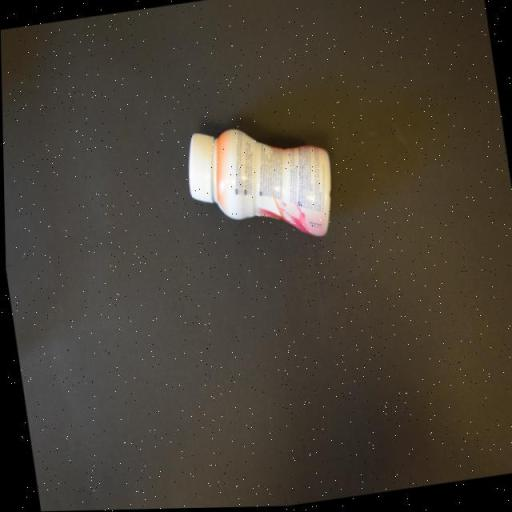plastic: (182, 111, 340, 252)
